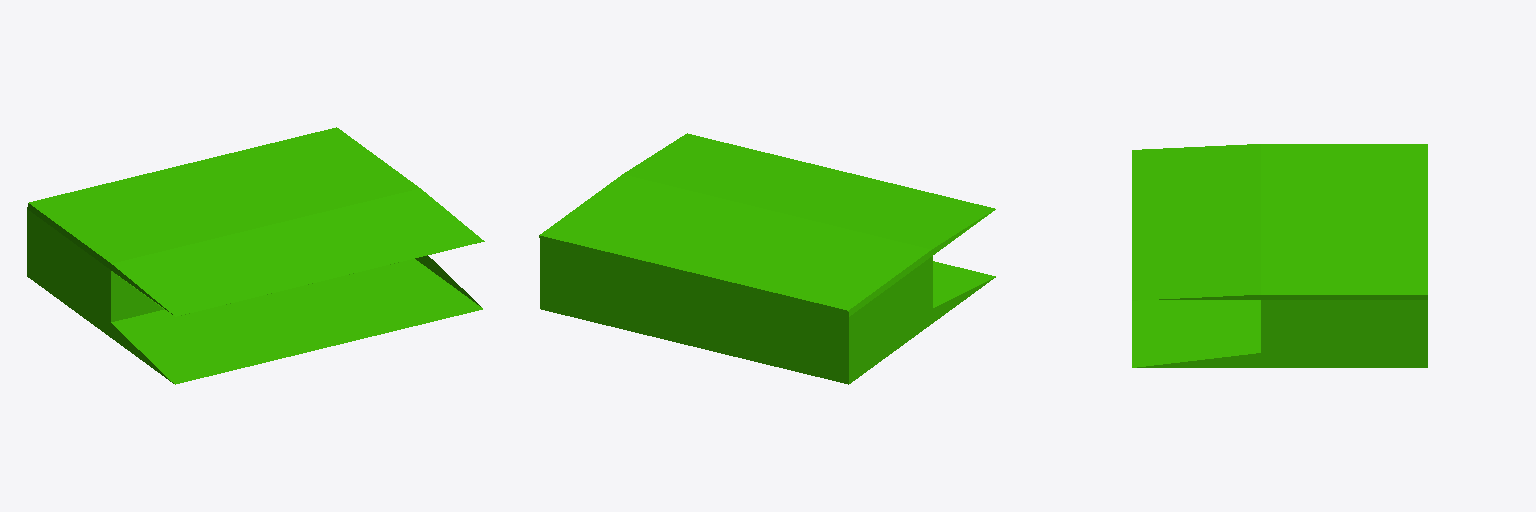
File: top_section.obj
The picture shows the model from 3 angles: view 1: azimuth 30°, elevation 25°; view 2: azimuth 150°, elevation 25°; view 3: azimuth 270°, elevation 25°; orthographic projection.
Parts seen in each view (by area): view 1: black_wall.001; view 2: black_wall.001; view 3: black_wall.001.
Boxes of the visible parts, <box> form: black_wall.001: <box>27,127,484,384</box>; black_wall.001: <box>539,133,995,384</box>; black_wall.001: <box>1132,144,1427,367</box>.
Size of the model in its own units: 42.93 by 9.78 by 35.45.